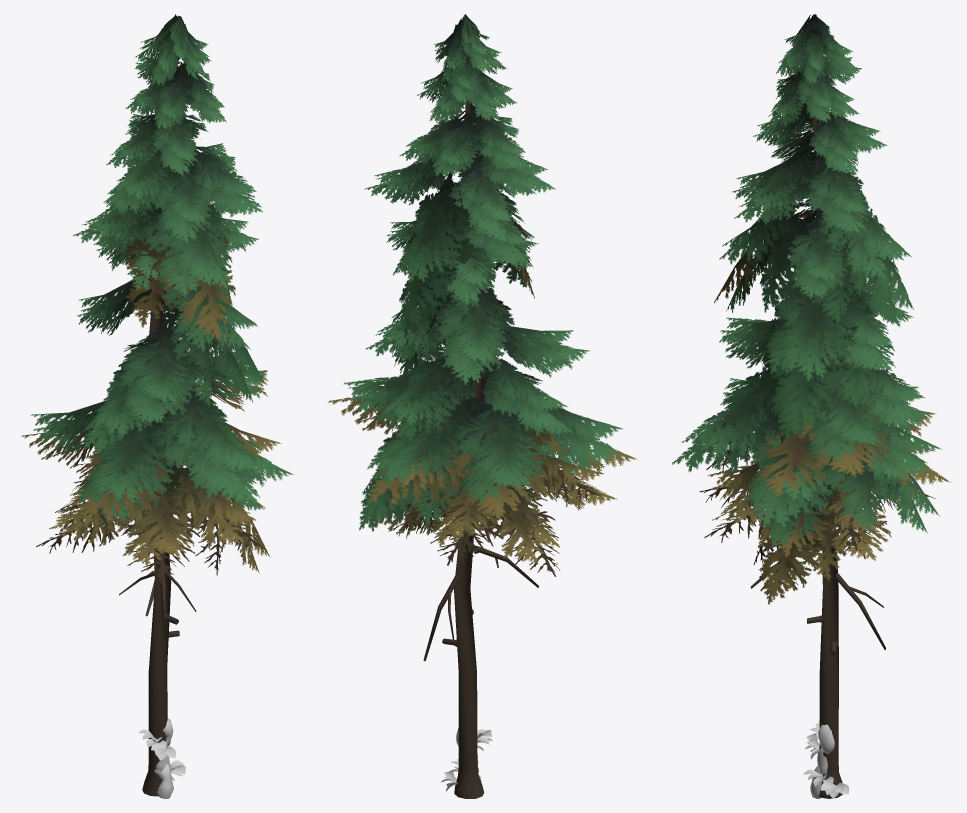
The model's file is Fir_Bl+Ñ.L.A.X1.fbx.
The picture shows the model from 3 angles, left to right: view 1: azimuth 30°, elevation 25°; view 2: azimuth 150°, elevation 25°; view 3: azimuth 270°, elevation 25°; orthographic projection.
Visible parts, largest first — view 1: Fir_Blå_L_A_X1; view 2: Fir_Blå_L_A_X1; view 3: Fir_Blå_L_A_X1.
Boxes of the visible parts, left/top/right/bottom form: Fir_Blå_L_A_X1: left=21, top=14, right=293, bottom=798; Fir_Blå_L_A_X1: left=328, top=14, right=637, bottom=798; Fir_Blå_L_A_X1: left=672, top=14, right=950, bottom=798.
Size of the model in its own units: 545 by 1551 by 509.
